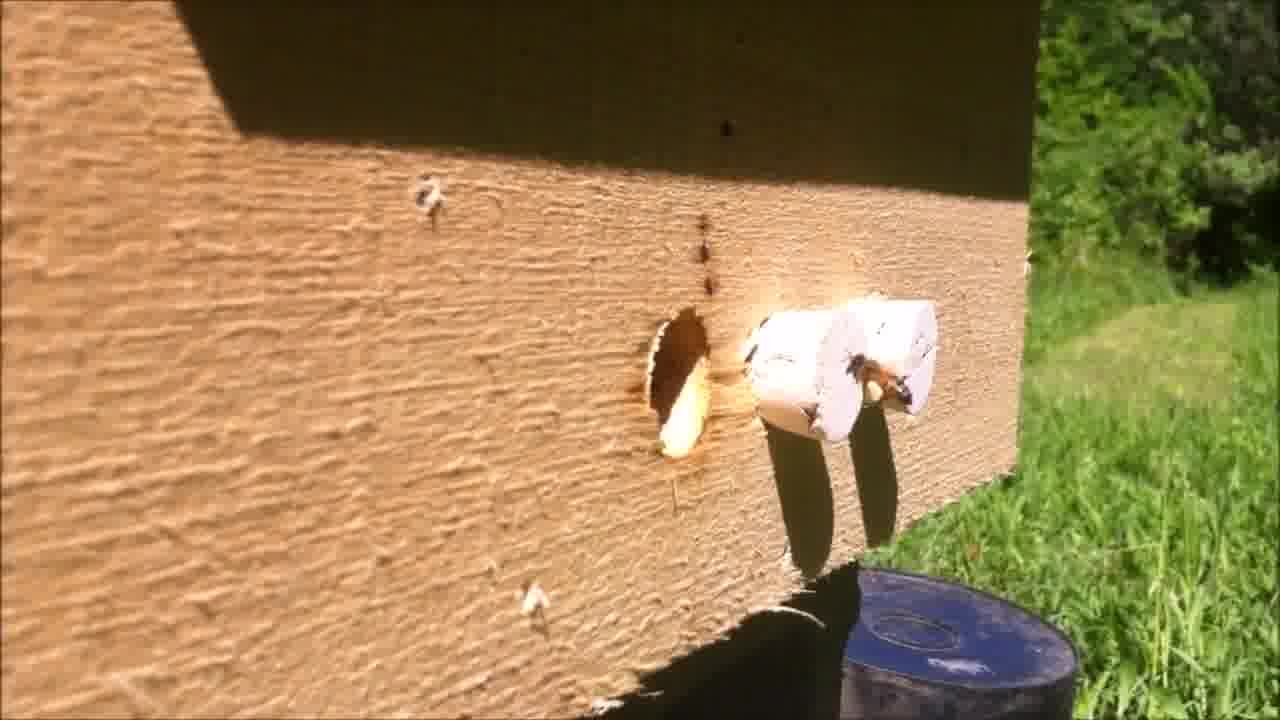pollen: (847, 350, 920, 420)
